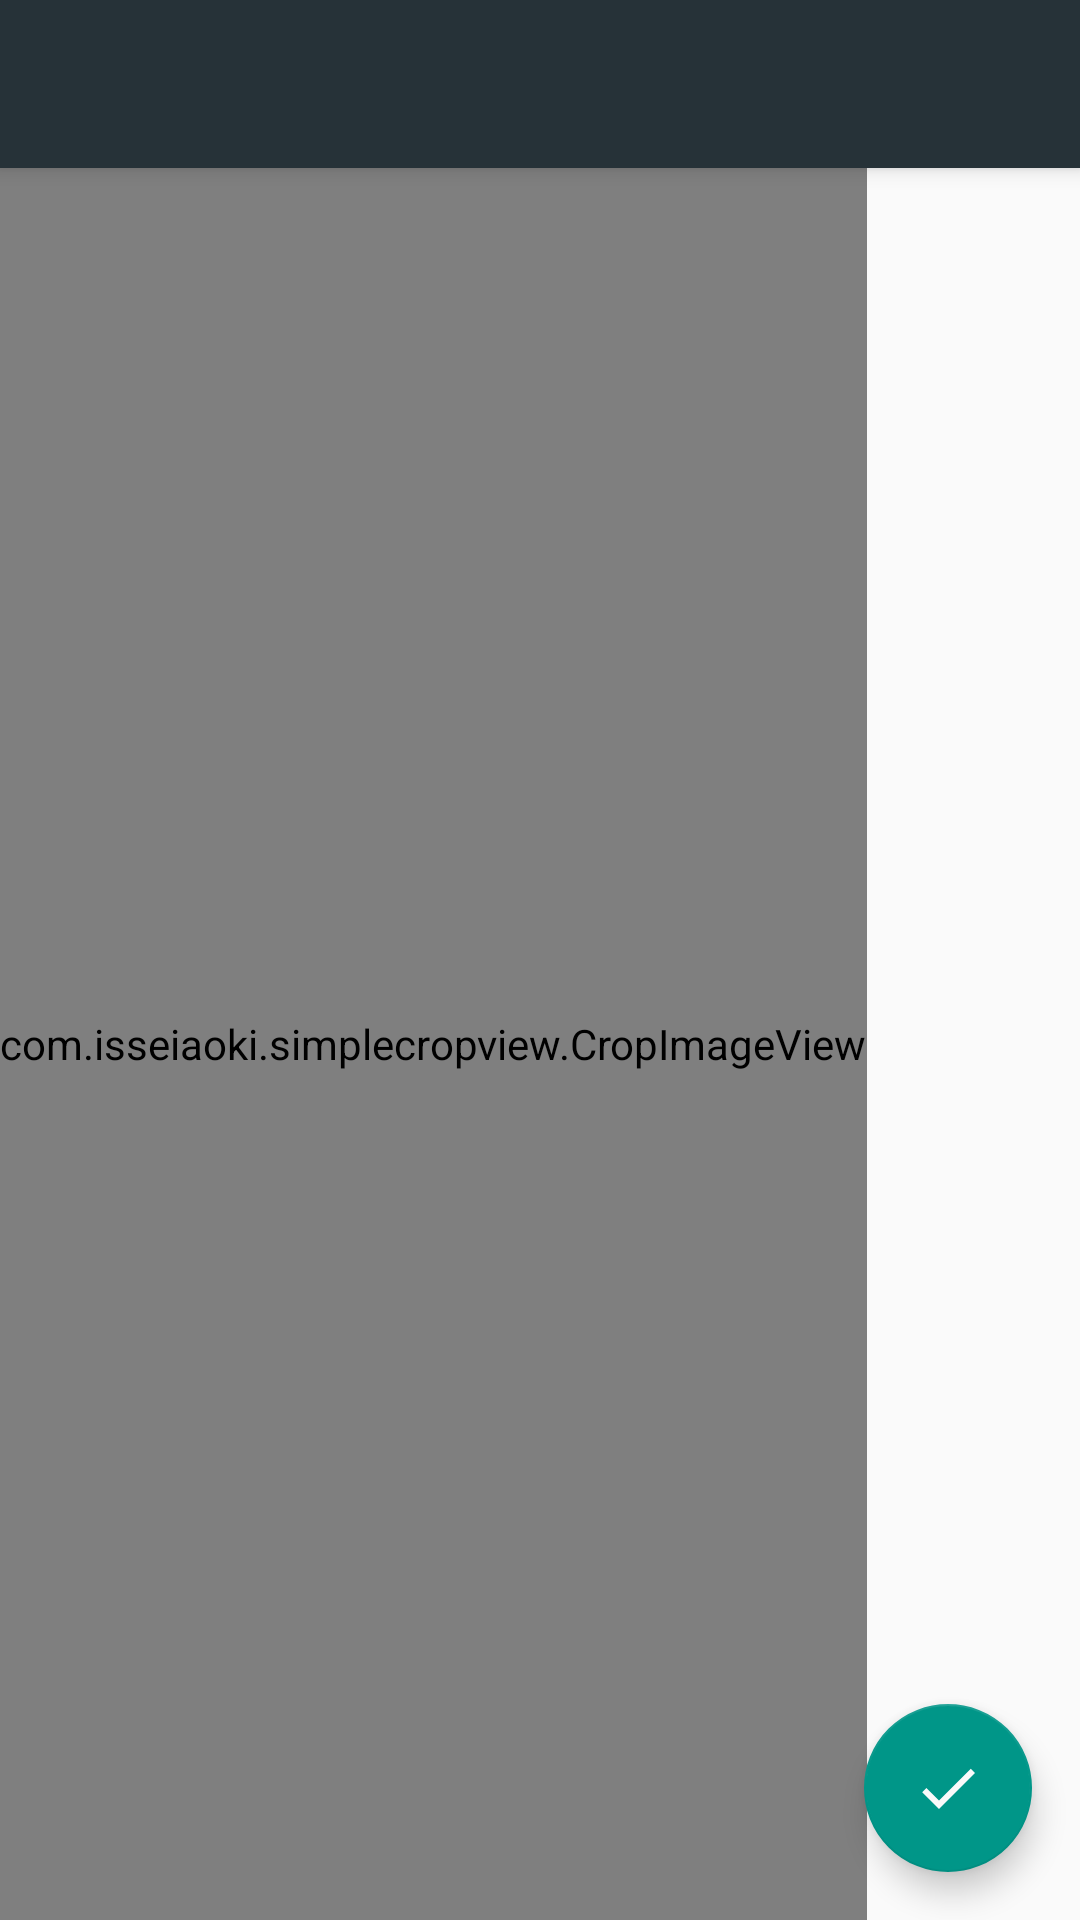

Icon click points for this 1080 x 1920 phone screenshot, format (x=x, y=y):
done: (x=948, y=1788)
